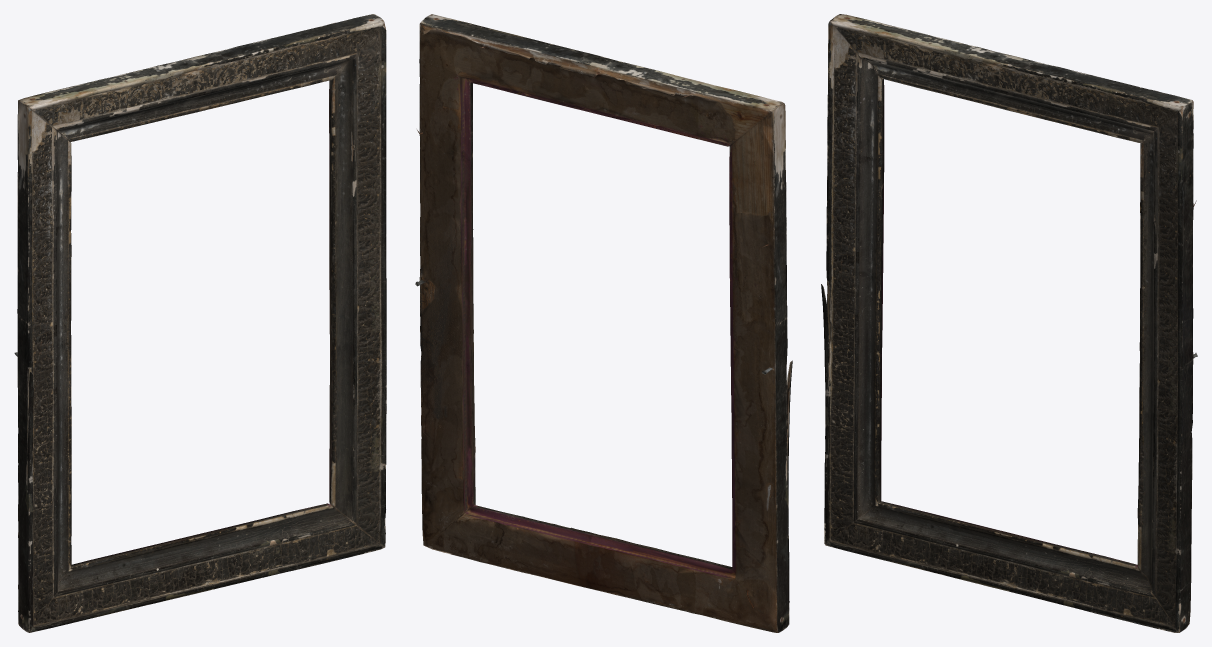
The model's file is mirror.obj.
3 renders of one model, left to right at view 1: azimuth 30°, elevation 25°; view 2: azimuth 150°, elevation 25°; view 3: azimuth 330°, elevation 25°, orthographic.
Parts seen in each view (by area): view 1: ukpidjpaw_LOD0_TIER2_000_MatID_1_0; view 2: ukpidjpaw_LOD0_TIER2_000_MatID_1_0; view 3: ukpidjpaw_LOD0_TIER2_000_MatID_1_0.
Boxes of the visible parts, left/top/right/bottom form: ukpidjpaw_LOD0_TIER2_000_MatID_1_0: left=14, top=14, right=386, bottom=632; ukpidjpaw_LOD0_TIER2_000_MatID_1_0: left=415, top=14, right=792, bottom=632; ukpidjpaw_LOD0_TIER2_000_MatID_1_0: left=821, top=14, right=1197, bottom=632.
Bounding box in the file's own units: 0.491 × 0.6885 × 0.0501.
